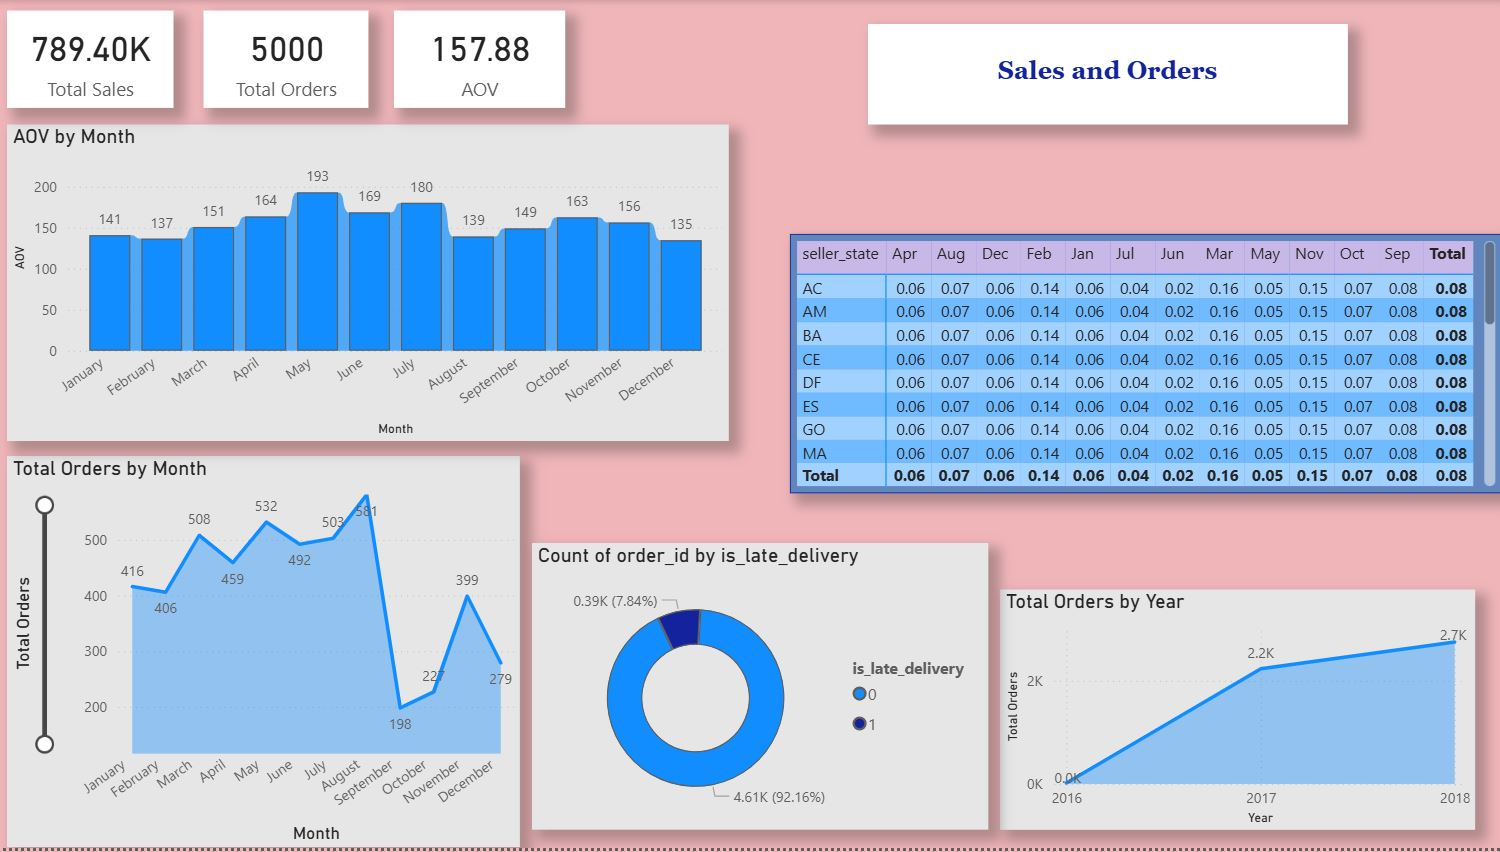

The dashboard page shown, as its layout file describes it:
{"tool":"powerbi","page":{"name":"Page 2","canvas":[1280,720],"ordinal":1},"visuals":[{"type":"areaChart","fields":{"Category":["DimDate.Date.Variation.Date Hierarchy.Year","DimDate.Date.Variation.Date Hierarchy.Quarter","DimDate.Date.Variation.Date Hierarchy.Month","DimDate.Date.Variation.Date Hierarchy.Day"],"Y":["DimDate.Total Orders"]},"box":[853.1,500.4,403.6,203.7],"z":0},{"type":"areaChart","fields":{"Category":["DimDate.Date.Variation.Date Hierarchy.Month"],"Y":["DimDate.Total Orders"]},"box":[10.2,387.1,435.4,332.3],"z":1000},{"type":"columnChart","fields":{"Y":["DimDate.AOV"],"Category":["DimDate.Date.Variation.Date Hierarchy.Month"]},"box":[10.2,105.7,612.4,268.6],"z":2000},{"type":"donutChart","fields":{"Category":["gold_fact_sales.is_late_delivery"],"Y":["CountNonNull(gold_fact_sales.order_id)"]},"box":[455.8,460.9,387.1,243.2],"z":3000},{"type":"pivotTable","fields":{"Rows":["gold_dim_sellers.seller_state"],"Columns":["DimDate.Month Name"],"Values":["gold_fact_sales.Late Delivery Rat"]},"box":[674.8,198.6,604.8,220.3],"z":4000},{"type":"textbox","box":[741,20.4,407.4,85.3],"z":4001},{"type":"card","fields":{"Values":["DimDate.Total Sales"]},"box":[10.2,8.9,141.3,82.8],"z":4002},{"type":"card","fields":{"Values":["DimDate.Total Orders"]},"box":[177,8.9,140.1,82.8],"z":4003},{"type":"card","fields":{"Values":["DimDate.AOV"]},"box":[338.7,8.9,145.1,82.8],"z":4005}]}

Visuals, with their boxes in screenshot pixels (x1, y1, x2, y2), scaled from the page's 1280x720 canvas onto the 1500x852 screenshot:
areaChart - DimDate.Date.Variation.Date Hierarchy.Year x DimDate.Date.Variation.Date Hierarchy.Quarter: select_region(1000, 592, 1473, 833)
areaChart - DimDate.Date.Variation.Date Hierarchy.Month x DimDate.Total Orders: select_region(12, 458, 522, 851)
columnChart - DimDate.AOV x DimDate.Date.Variation.Date Hierarchy.Month: select_region(12, 125, 730, 443)
donutChart - gold_fact_sales.is_late_delivery x CountNonNull(gold_fact_sales.order_id): select_region(534, 545, 988, 833)
pivotTable - gold_dim_sellers.seller_state x DimDate.Month Name: select_region(791, 235, 1499, 496)
textbox: select_region(868, 24, 1346, 125)
card - DimDate.Total Sales: select_region(12, 11, 178, 109)
card - DimDate.Total Orders: select_region(207, 11, 372, 109)
card - DimDate.AOV: select_region(397, 11, 567, 109)
